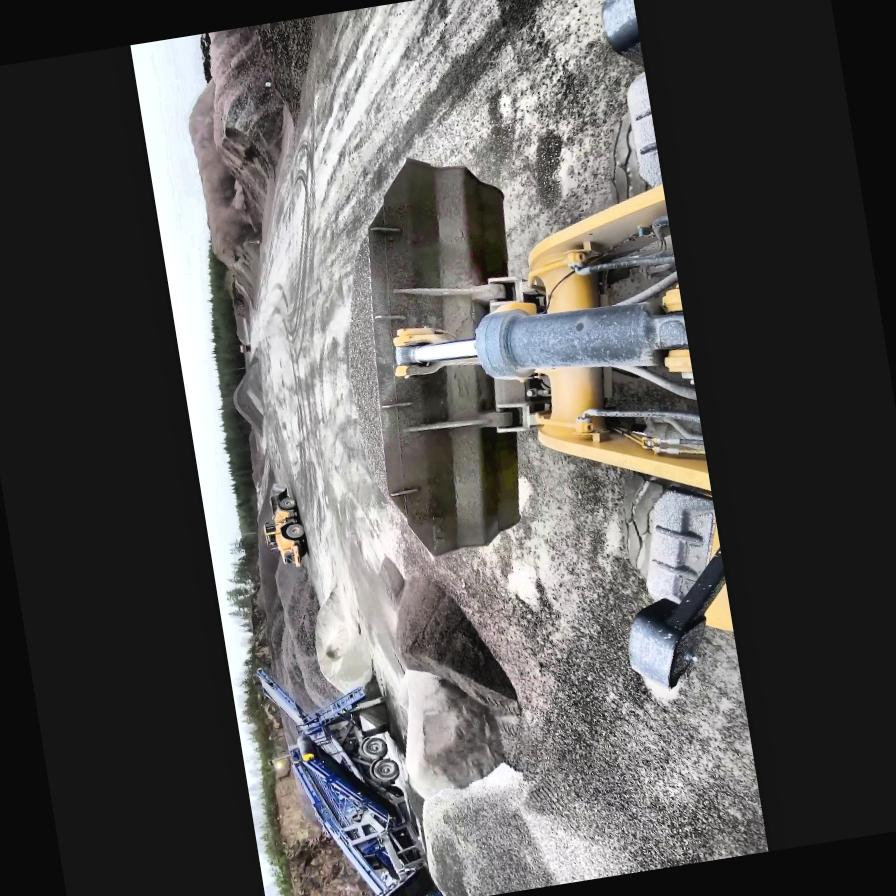anchor: (386, 316, 478, 380)
pile of gravel: (366, 560, 559, 896), (173, 21, 326, 324), (266, 547, 338, 704), (305, 584, 376, 694), (226, 355, 267, 439), (242, 426, 272, 492)
